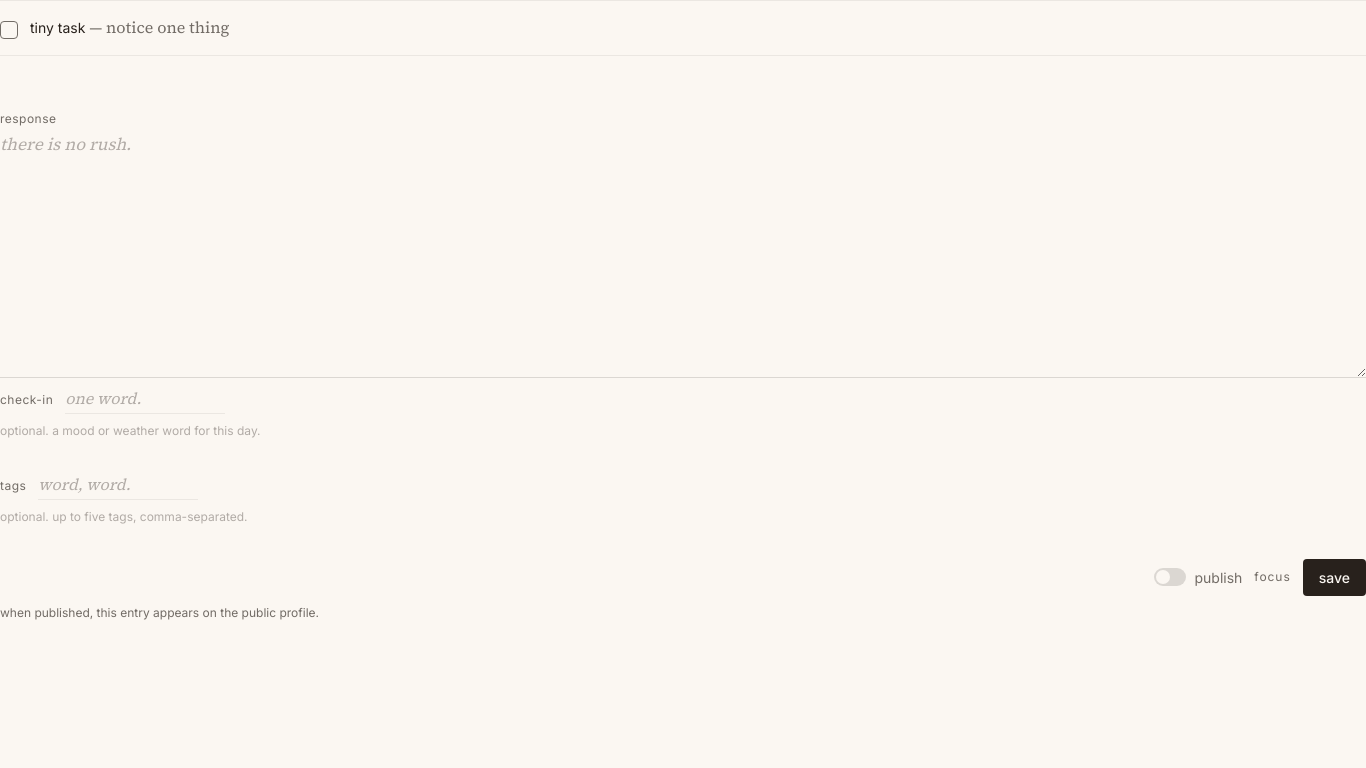
Test: focus mode › overlay shows the prompt text
Click the button with aria-label "enters a distraction-free writing view.".
click(1272, 577)  # box [1254,568,1291,587]
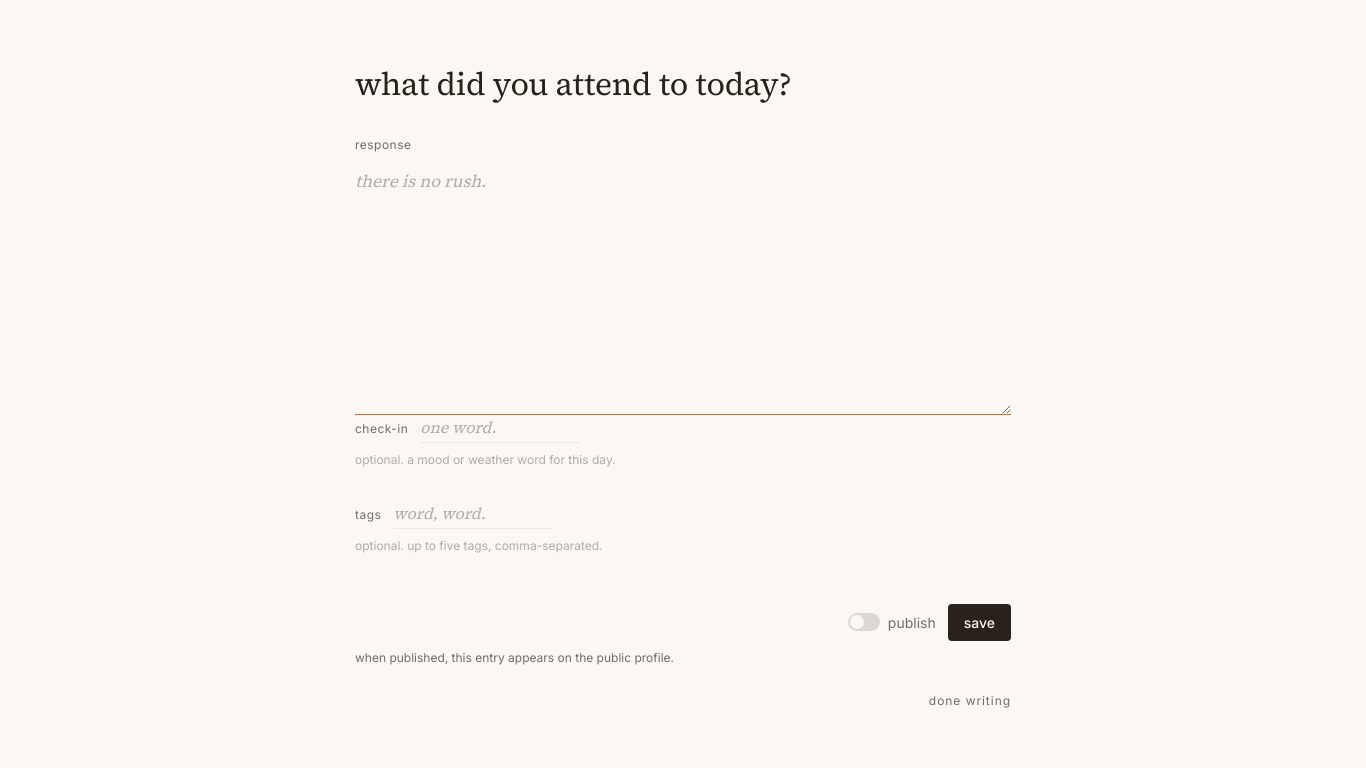
Now the text "what did you attend to today?" is shown, box [355,62,791,106]
